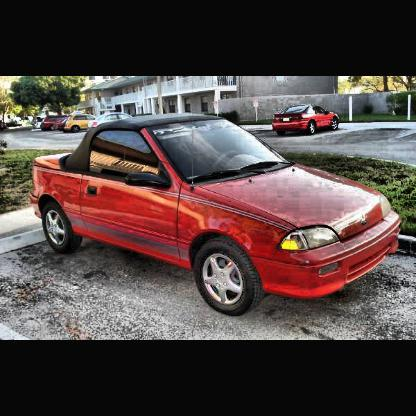Geo Metro Convertible 1993: (32, 115, 402, 316)
